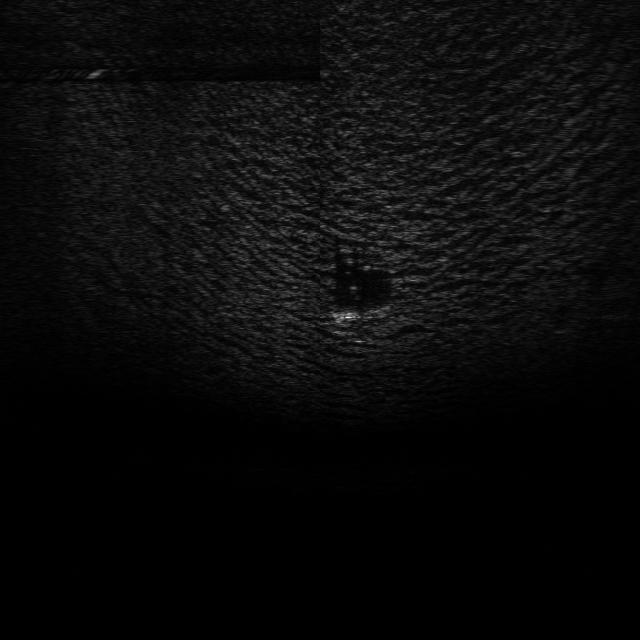plane: (327, 297, 393, 327)
